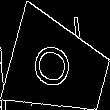O_E: (33, 39, 84, 96)
